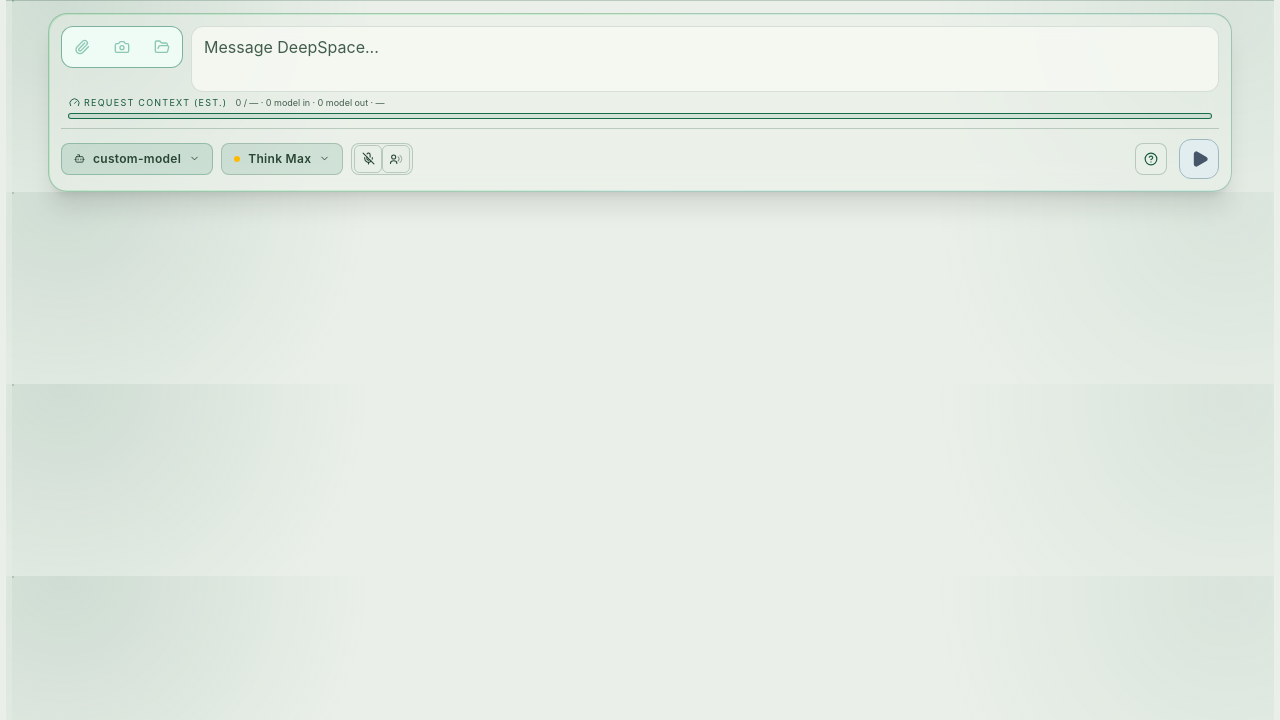
Test: custom provider reasoning options › uses verified LarpRouter defaults and labels the native max effort
Click the button with aria-label "Choose reasoning effort": (282, 158) [221,142,343,174]
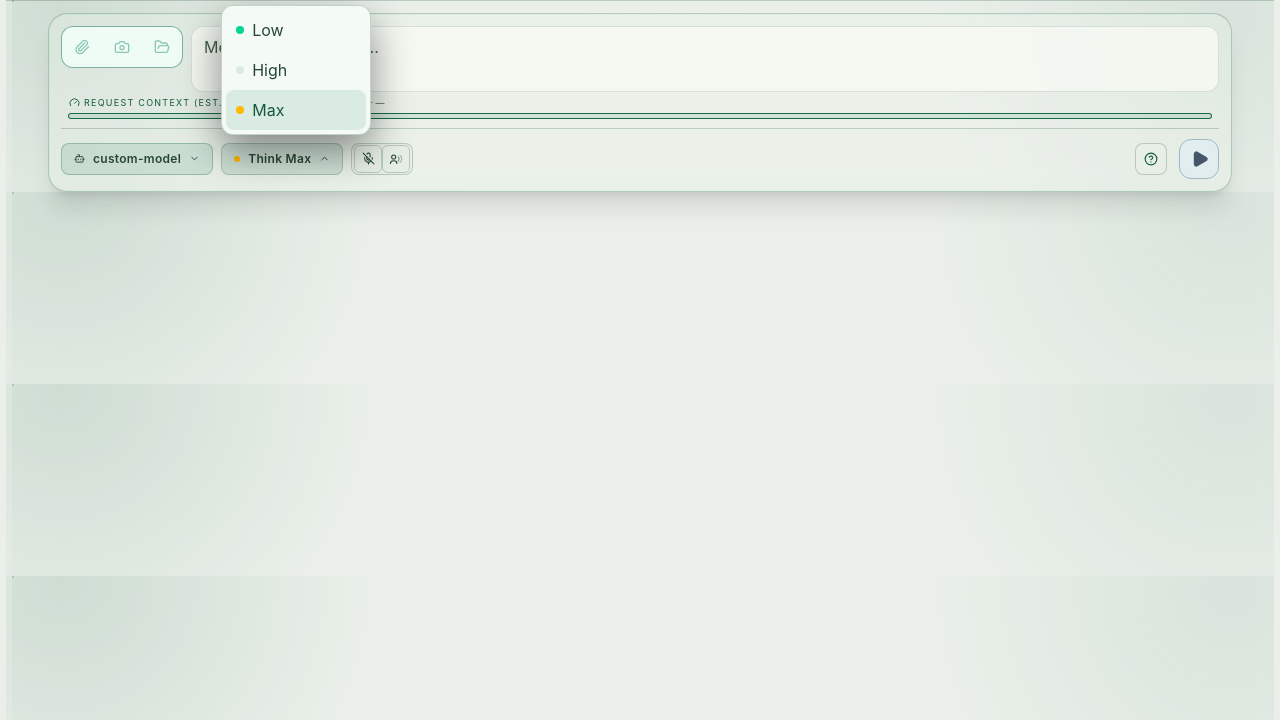
expect the button "Low" is shown: met, box [226,10,366,50]
expect the button "High" is shown: met, box [226,50,366,90]
expect the button "Max" is shown: met, box [226,90,366,130]
